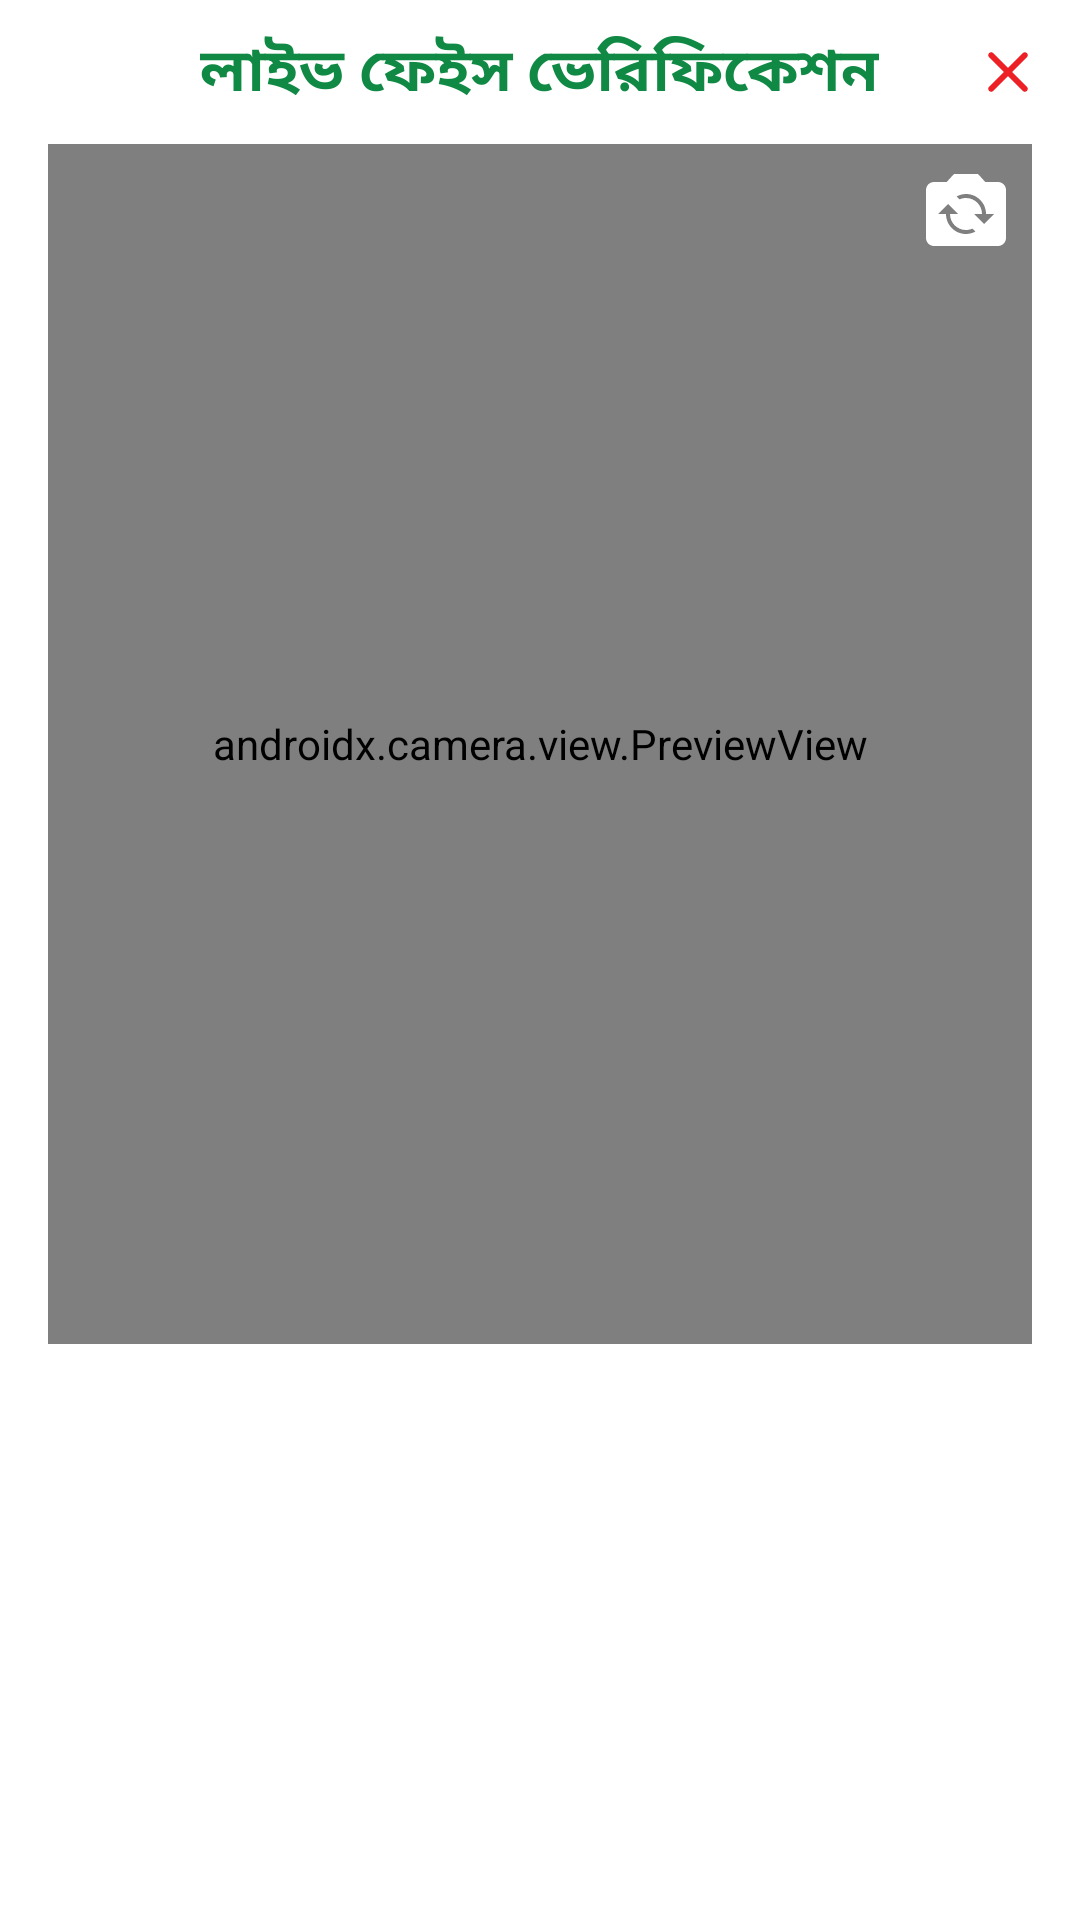

Icon bounding boxes for this 1080x1920 phone screenshot, format (x1, y1, x2, y2):
close: (988, 52, 1028, 92)
flip camera: (926, 174, 1006, 246)
